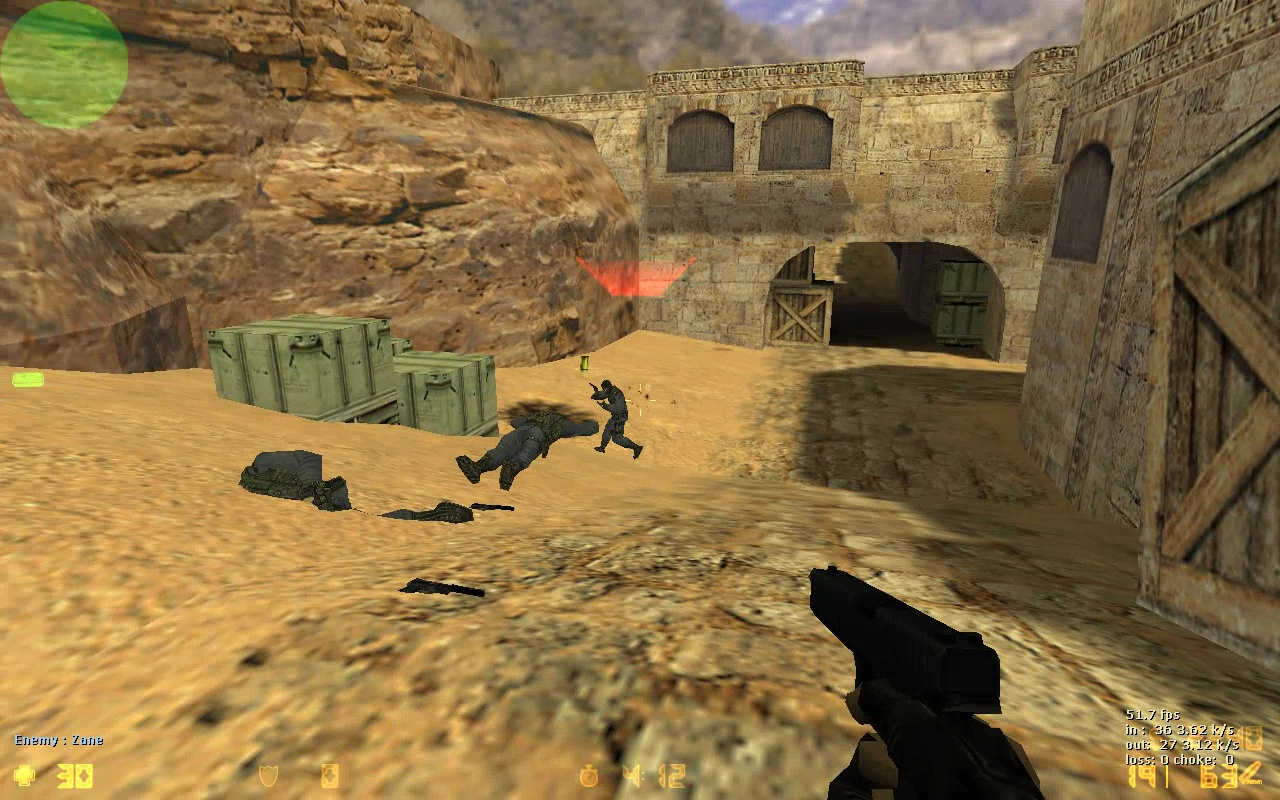ct: (590, 380, 648, 462)
dead: (446, 410, 594, 486)
